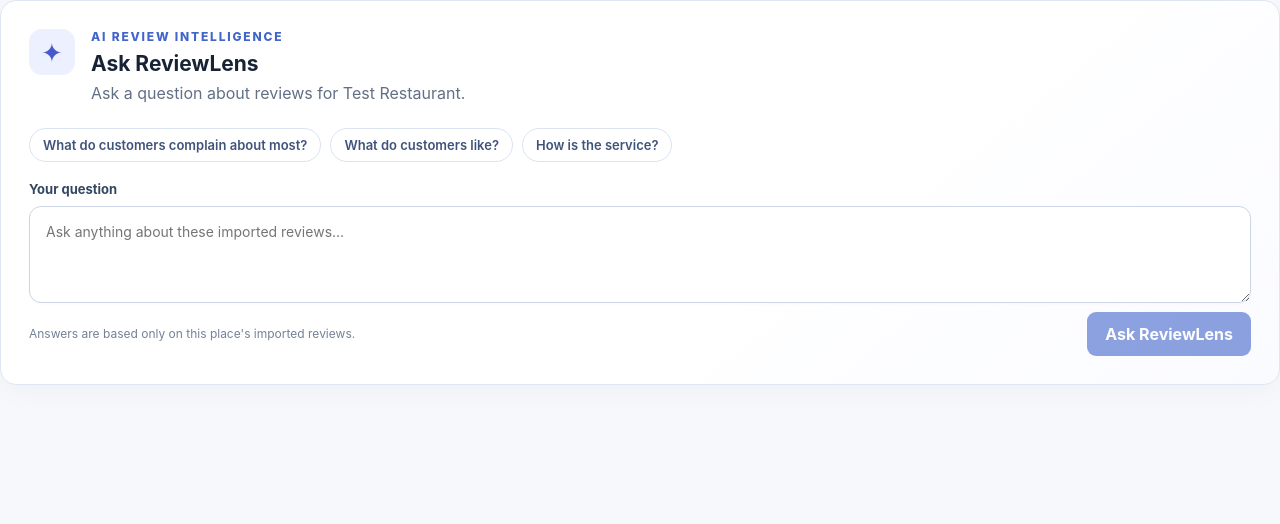
Scenario: ReviewQA › submits a question and displays the AI response
Step 1. Type "What do customers like?" into the text box labelled "Your question" → {"x": 640, "y": 254}, box top-left (29, 206), bottom-right (1251, 303)
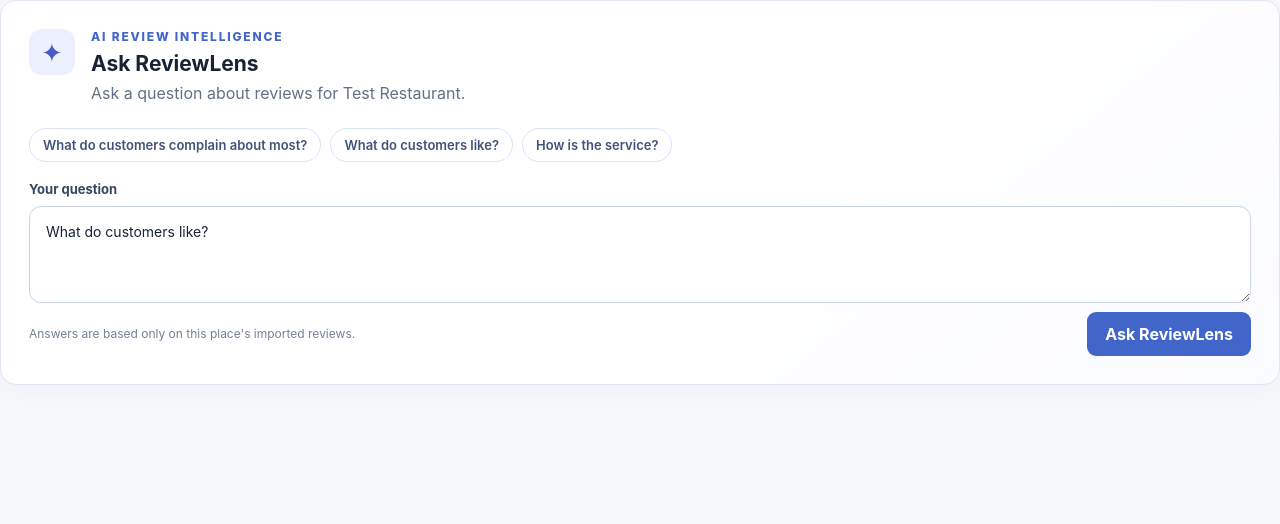
Step 2. Click the button "Ask ReviewLens" → {"x": 1169, "y": 334}, box top-left (1087, 312), bottom-right (1251, 356)
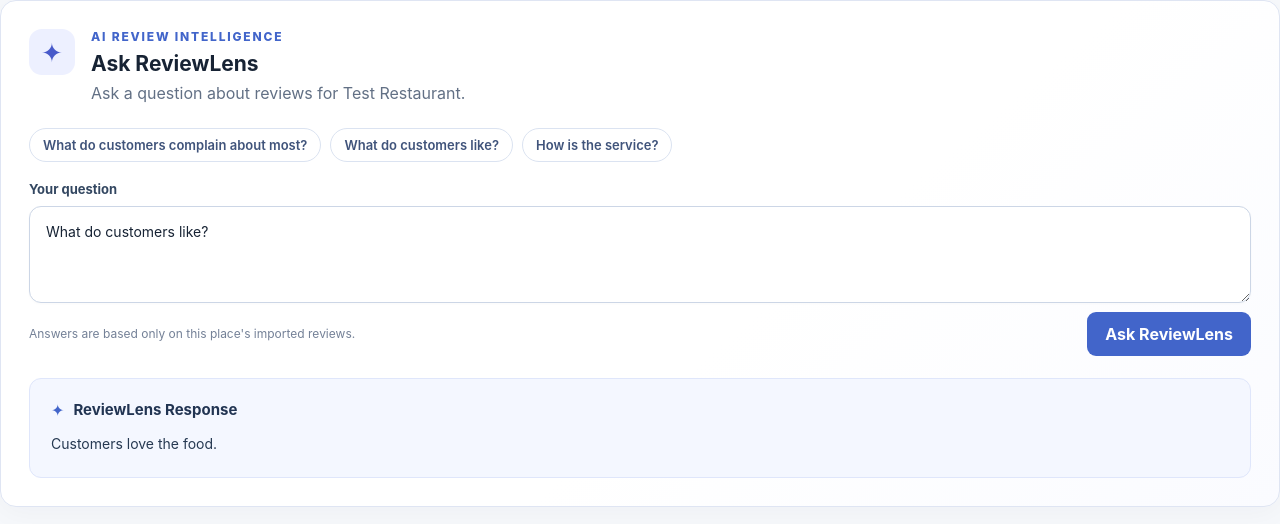
Check: the text "Customers love the food." is shown, box top-left (51, 435), bottom-right (217, 452)
